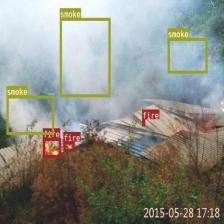fire: (43, 138, 60, 157), (63, 141, 74, 151), (142, 119, 145, 126)
smoke: (60, 17, 110, 96), (6, 95, 54, 134), (167, 38, 207, 73)
